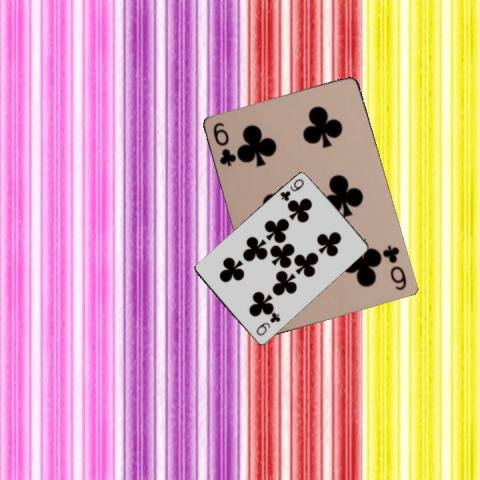6c: (380, 243, 408, 292), (211, 119, 238, 168)
9c: (278, 176, 306, 203), (253, 311, 282, 337)
